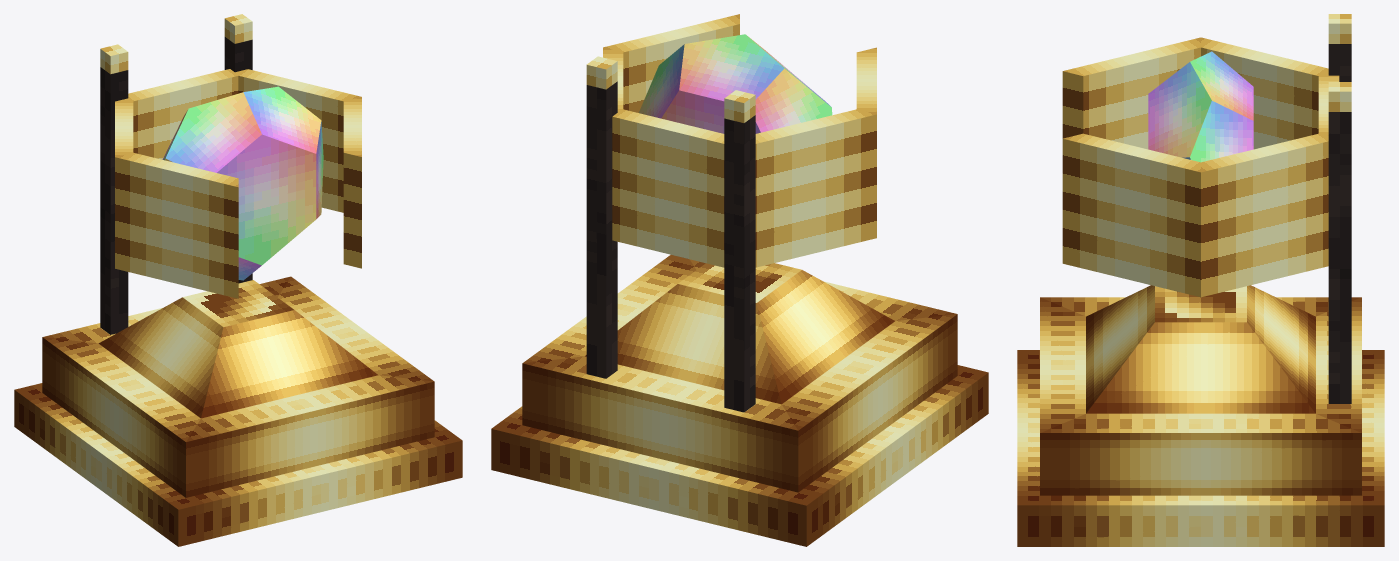
File: radiant_trove.obj
The picture shows the model from 3 angles, left to right: view 1: azimuth 30°, elevation 25°; view 2: azimuth 150°, elevation 25°; view 3: azimuth 270°, elevation 25°; orthographic projection. The views are drawn at different scales.
Parts seen in each view (by area): view 1: Base, Reader, MainCrystal, Struts; view 2: Base, Reader, Struts, MainCrystal; view 3: Base, Reader, Struts, MainCrystal.
Boxes of the visible parts, x1,y1,x2,y2 form: Base: [14, 276, 462, 546]; Reader: [115, 69, 361, 298]; MainCrystal: [162, 86, 323, 280]; Struts: [100, 14, 252, 334]; Base: [491, 255, 988, 546]; Reader: [603, 14, 876, 267]; Struts: [586, 56, 755, 412]; MainCrystal: [639, 34, 832, 133]; Base: [1017, 285, 1384, 546]; Reader: [1062, 37, 1339, 297]; Struts: [1328, 14, 1351, 403]; MainCrystal: [1148, 51, 1253, 162].
Bounding box in the file's own units: 0.7874 × 0.9843 × 0.7874.
